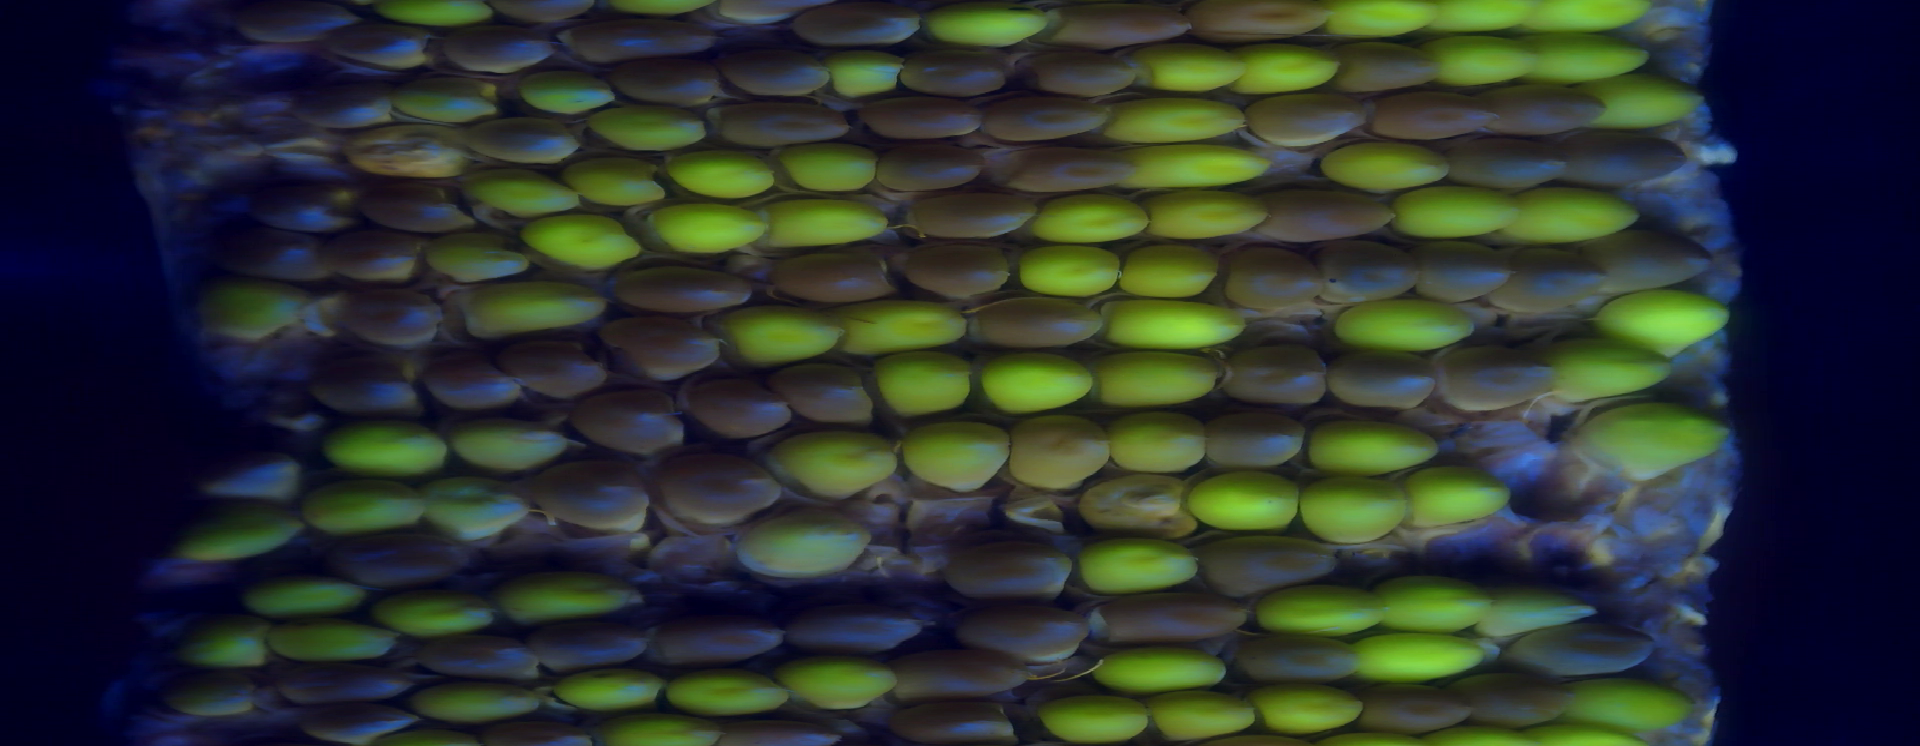fluorescent: (1583, 401, 1720, 479), (729, 507, 879, 578), (1593, 287, 1734, 360), (1286, 472, 1413, 543), (778, 429, 900, 502), (1545, 334, 1678, 398), (1303, 416, 1438, 479), (329, 416, 458, 481), (1240, 679, 1376, 740), (1097, 300, 1253, 353), (470, 279, 616, 334), (1005, 424, 1119, 494), (180, 500, 302, 563), (1313, 134, 1445, 192), (1090, 350, 1226, 407), (834, 294, 982, 345), (1386, 184, 1521, 240), (899, 423, 1005, 494), (1569, 676, 1709, 729), (1520, 184, 1644, 243), (721, 307, 841, 367), (422, 469, 525, 539), (653, 145, 782, 200), (1189, 478, 1305, 539), (1128, 142, 1280, 189), (1409, 463, 1513, 530), (655, 200, 774, 258), (1344, 304, 1477, 355), (487, 573, 640, 617), (1482, 576, 1596, 635), (589, 97, 708, 153), (1086, 534, 1193, 597), (1033, 191, 1151, 247), (1141, 185, 1270, 236), (873, 349, 983, 408), (522, 213, 650, 263), (1138, 688, 1261, 740), (1116, 98, 1245, 147), (1025, 697, 1164, 742), (1349, 636, 1496, 679), (1597, 76, 1706, 134), (977, 356, 1090, 412), (456, 421, 567, 477), (1376, 573, 1484, 630), (1116, 412, 1213, 473), (921, 1, 1053, 47), (790, 658, 909, 708), (1258, 582, 1378, 631), (1015, 247, 1122, 303), (763, 198, 889, 245), (782, 143, 890, 197), (662, 673, 793, 717), (347, 134, 473, 178), (316, 484, 419, 537), (1434, 37, 1534, 89), (241, 573, 371, 614), (216, 279, 302, 339), (273, 614, 405, 653), (1087, 650, 1228, 687), (386, 592, 486, 642), (421, 681, 550, 720), (1125, 243, 1218, 295), (178, 621, 273, 671), (1526, 33, 1651, 71), (1228, 50, 1342, 92), (386, 81, 502, 121), (819, 51, 912, 102), (470, 173, 576, 216), (527, 69, 616, 118), (1520, 1, 1651, 34), (551, 673, 664, 710), (1330, 1, 1439, 40), (576, 158, 653, 213), (433, 232, 528, 276), (1141, 47, 1238, 88), (596, 717, 722, 746), (163, 675, 249, 718), (377, 1, 493, 29), (1441, 1, 1515, 31)
nonfluorescent: (950, 533, 1078, 605), (955, 597, 1089, 663), (895, 639, 1044, 697), (1434, 345, 1558, 414), (896, 236, 1021, 301), (970, 288, 1106, 345), (528, 462, 650, 526), (1593, 223, 1708, 289), (539, 610, 670, 668), (1222, 341, 1333, 408), (1193, 534, 1349, 582), (313, 358, 429, 423), (658, 601, 782, 660), (1086, 597, 1248, 642), (660, 456, 773, 521), (708, 94, 855, 143), (982, 96, 1116, 149), (582, 390, 684, 459), (684, 379, 792, 445), (1335, 349, 1439, 416), (605, 320, 729, 375), (615, 266, 757, 314), (1258, 187, 1395, 236), (1353, 677, 1477, 731), (1187, 1, 1333, 47), (1215, 247, 1319, 311), (895, 695, 1024, 746), (1515, 627, 1660, 673), (1316, 240, 1424, 301), (789, 604, 929, 650), (362, 173, 474, 232), (229, 218, 338, 278), (1561, 130, 1692, 179), (1509, 240, 1596, 314), (351, 530, 467, 586), (1482, 76, 1607, 126), (767, 247, 898, 295), (1373, 92, 1491, 143), (1324, 43, 1439, 96), (467, 114, 590, 163), (779, 363, 879, 423), (900, 195, 1044, 236), (500, 341, 599, 401), (1245, 97, 1373, 143), (1238, 628, 1360, 676), (345, 281, 444, 339), (419, 630, 538, 677), (1473, 673, 1573, 729), (571, 11, 710, 51), (1202, 412, 1307, 465), (1457, 134, 1560, 187), (287, 78, 402, 126), (722, 47, 829, 98), (279, 660, 418, 698), (1419, 247, 1512, 304), (444, 31, 563, 75), (1051, 10, 1191, 47), (997, 149, 1131, 187), (233, 1, 358, 42), (612, 53, 718, 100), (331, 20, 438, 66), (429, 353, 512, 412), (873, 143, 976, 189), (255, 171, 358, 217), (800, 9, 924, 45), (339, 234, 424, 288), (861, 96, 980, 134), (902, 49, 1005, 92), (1019, 60, 1134, 94), (302, 702, 411, 733), (726, 720, 844, 746)
